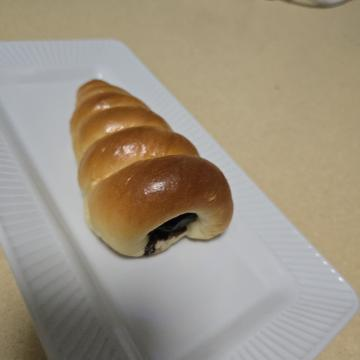cream horn: (64, 117, 270, 302)
